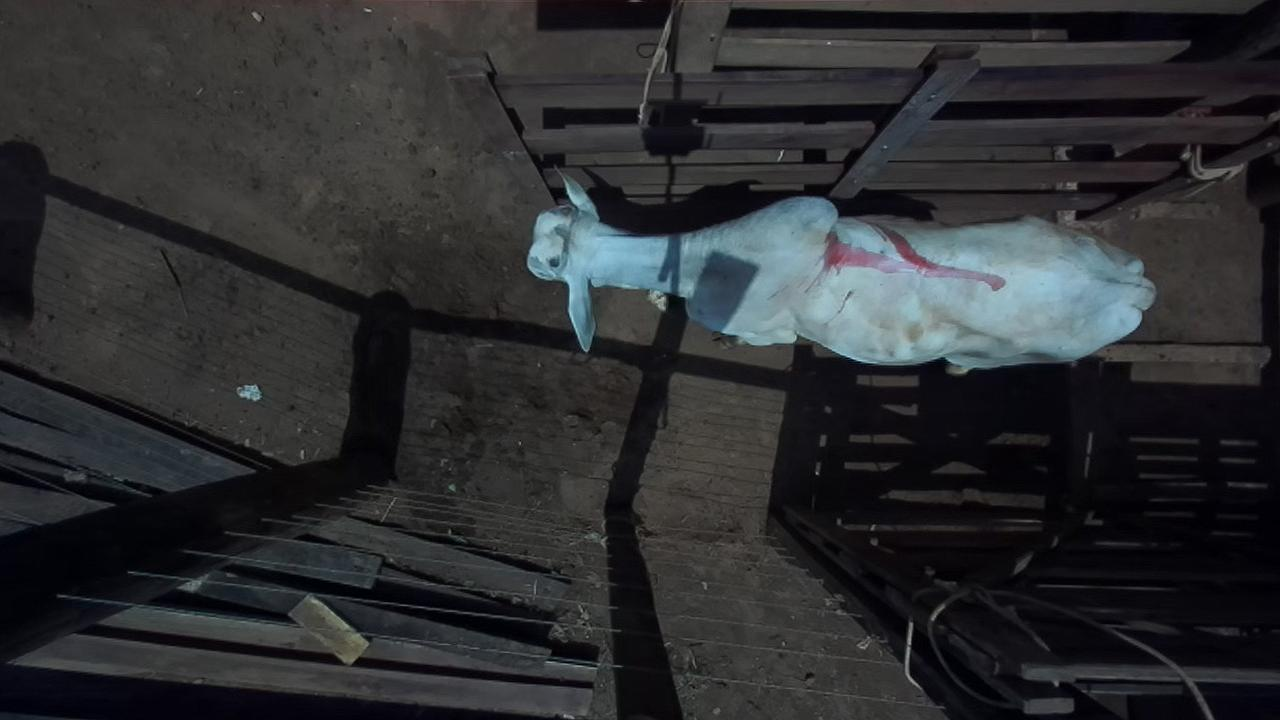cattle: (525, 168, 1156, 375)
